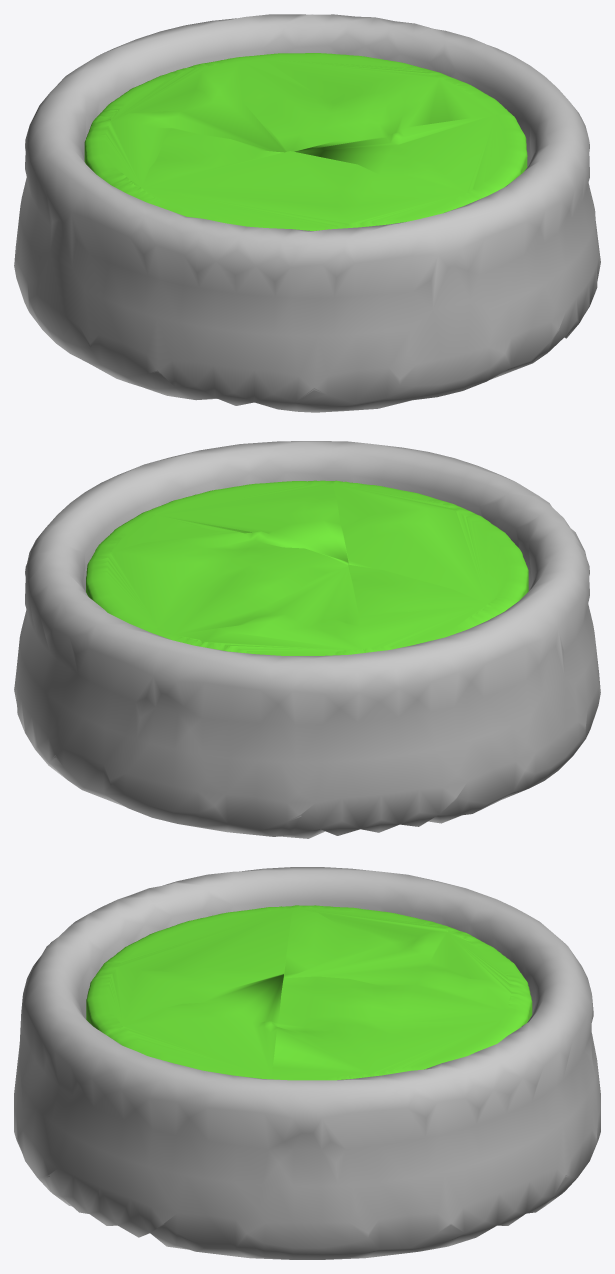
Rendered from asit pool.fbx.
3 renders of one model, top to bottom at view 1: azimuth 30°, elevation 25°; view 2: azimuth 150°, elevation 25°; view 3: azimuth 270°, elevation 25°, orthographic.
Visible parts, largest first — view 1: Torus.003, Cylinder; view 2: Torus.003, Cylinder; view 3: Torus.003, Cylinder.
Boxes of the visible parts, x1,y1,x2,y2 form: Torus.003: [14, 14, 600, 412]; Cylinder: [84, 53, 527, 230]; Torus.003: [14, 441, 600, 838]; Cylinder: [86, 480, 528, 655]; Torus.003: [14, 867, 600, 1259]; Cylinder: [86, 905, 532, 1080].
Bounding box in the file's own units: 1173 × 397 × 1189.
